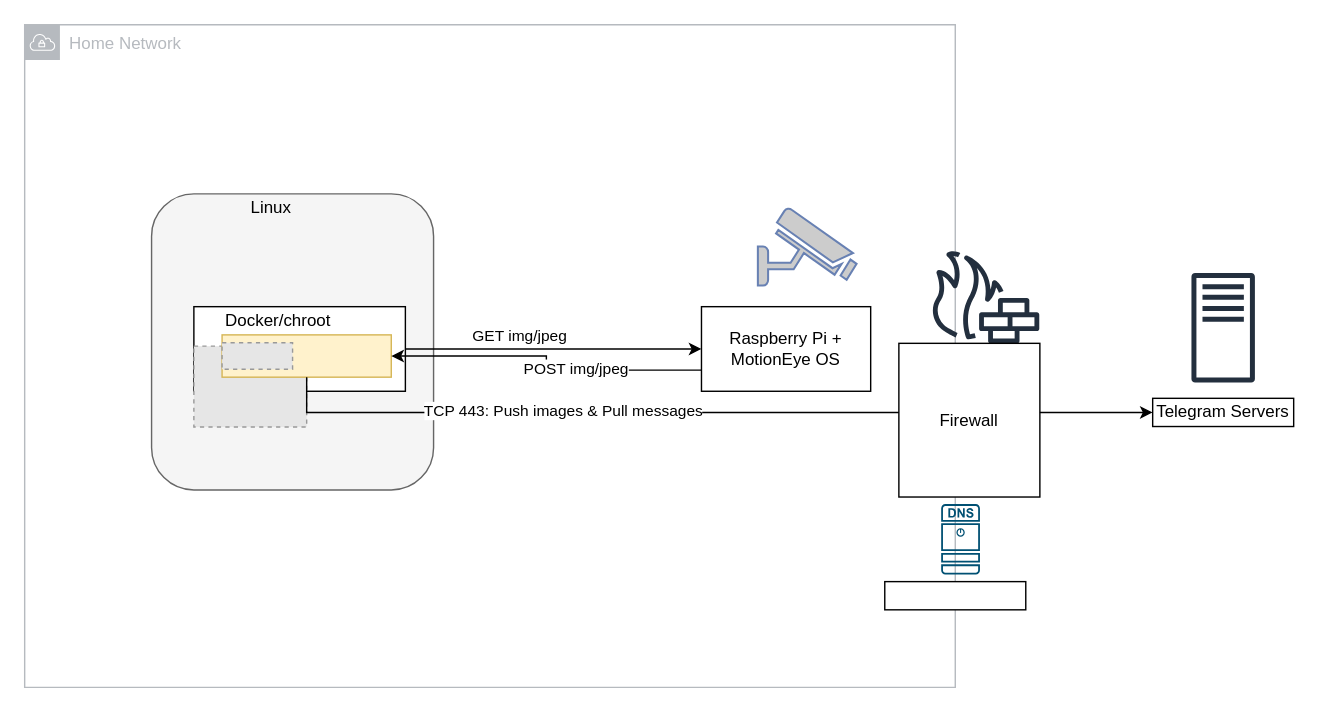
The diagram is 1318 pixels wide and 712 high, and some of its shapes have lost their labels. Grey dashed boxes stand in for pictures. The shapes that lost their labels are listed below. From the top down, each one's box as (x1, y1, x2, y2) in pixels, then its label:
(221, 333, 391, 377): Bot Code
(883, 580, 1026, 610): PiHole
